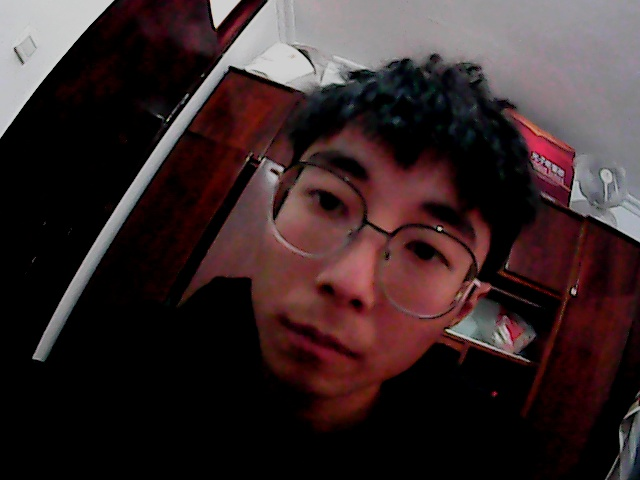face: (254, 45, 524, 405)
